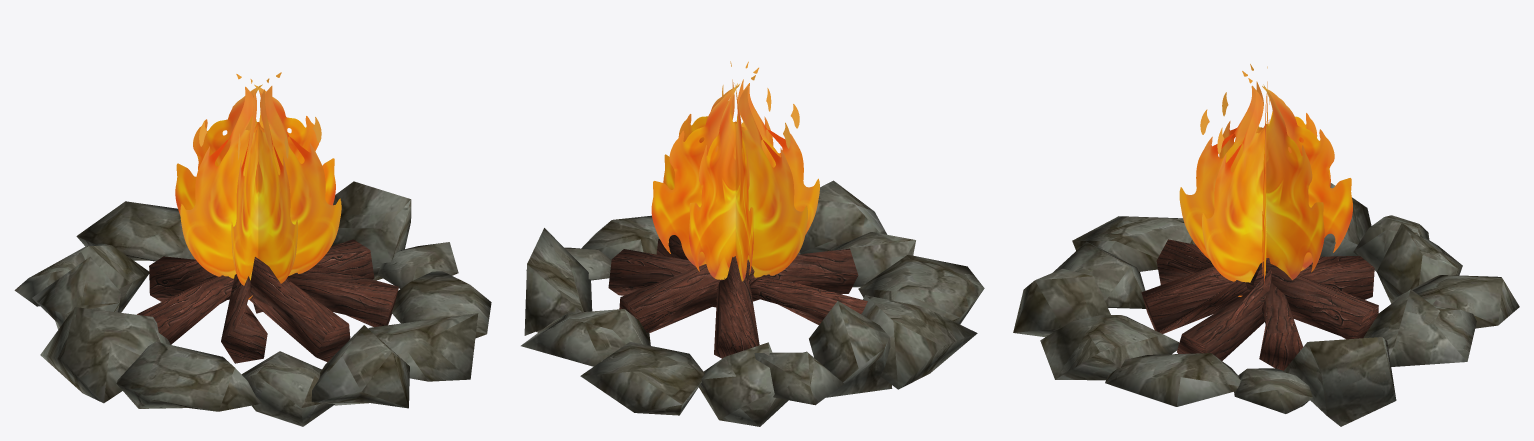
Rendered from Fireplace.glb.
3 views of the same model, side by side, from view 1: azimuth 30°, elevation 25°; view 2: azimuth 150°, elevation 25°; view 3: azimuth 270°, elevation 25° (orthographic).
Visible parts, largest first — view 1: Fireplace_01, Plane; view 2: Fireplace_01, Plane; view 3: Fireplace_01, Plane.
Boxes of the visible parts, left/top/right/bottom form: Fireplace_01: left=14, top=181, right=491, bottom=426; Plane: left=175, top=72, right=341, bottom=299; Fireplace_01: left=521, top=180, right=984, bottom=426; Plane: left=651, top=61, right=819, bottom=281; Fireplace_01: left=1013, top=183, right=1519, bottom=426; Plane: left=1179, top=64, right=1352, bottom=296.
Size of what is drawn, in the model's own units: 1.58 by 1.1 by 1.72.
3 materials, 3 textured.
